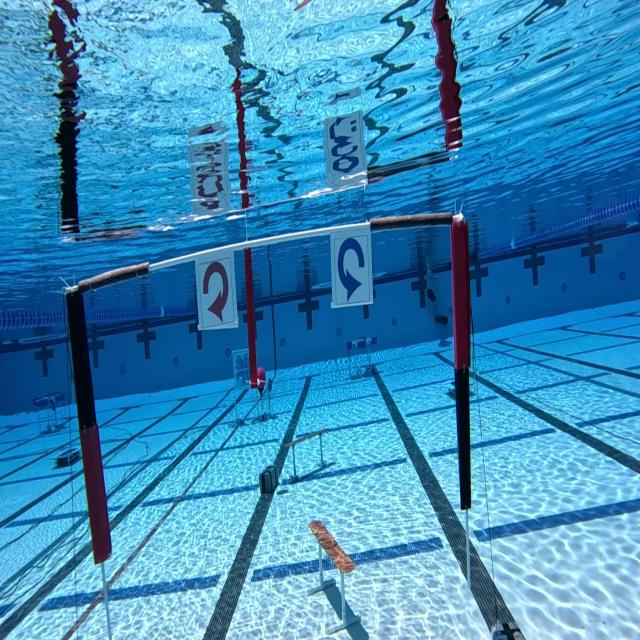blue_side: (329, 226, 374, 310)
red_side: (193, 246, 240, 330)
